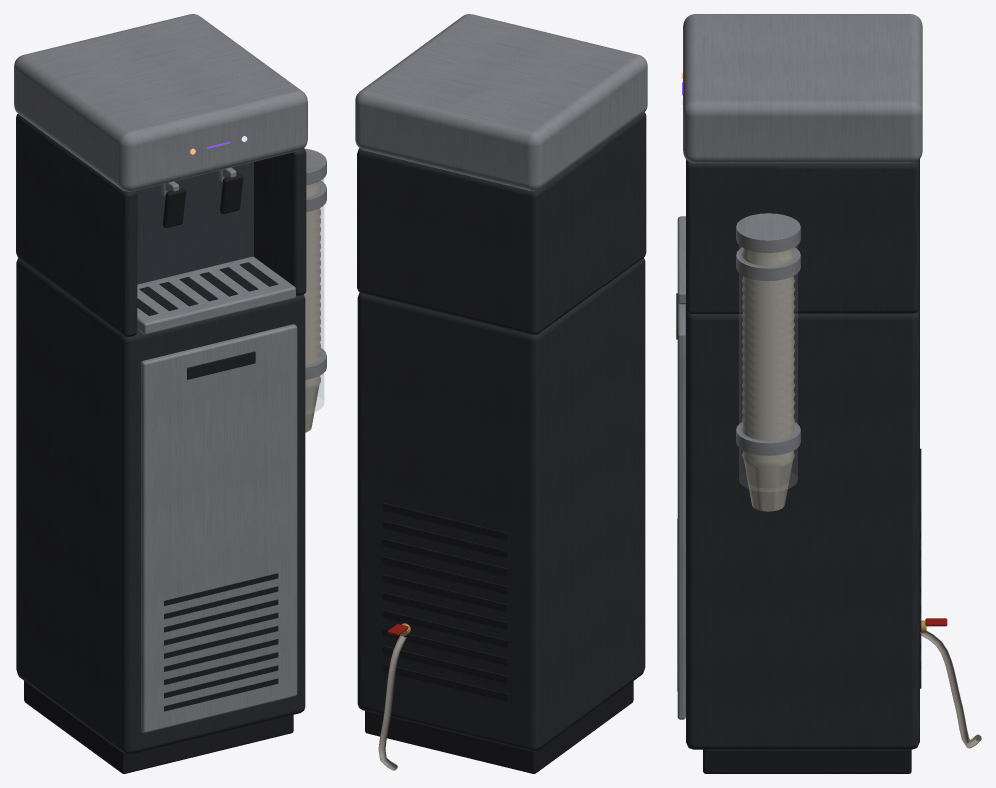
The model's file is water_dispenser.glb.
3 renders of one model, left to right at view 1: azimuth 30°, elevation 25°; view 2: azimuth 150°, elevation 25°; view 3: azimuth 270°, elevation 25°, orthographic. The views are drawn at different scales.
Visible parts, largest first — view 1: body_graphite_0, front_panel_steel_brushed_0, body_steel_brushed_1, body_alloy_dark_2, front_panel_plastic_dark_1, tray_steel_brushed_0, body_plastic_dark_4, cup_tube_glass_clear_0, cups_plastic_ivory_0, tray_plastic_dark_1, clamps_steel_brushed_0, tap_r_plastic_dark_0 (+1 smaller); view 2: body_graphite_0, body_steel_brushed_1, body_plastic_dark_4, body_plastic_white_7; view 3: body_graphite_0, body_steel_brushed_1, cup_tube_glass_clear_0, cups_plastic_ivory_0, body_plastic_dark_4, clamps_steel_brushed_0, front_panel_steel_brushed_0, body_plastic_white_7, tray_steel_brushed_0.
Boxes of the visible parts, left/top/right/bottom form: body_graphite_0: left=16, top=114, right=306, bottom=754; front_panel_steel_brushed_0: left=141, top=324, right=297, bottom=732; body_steel_brushed_1: left=14, top=14, right=307, bottom=195; body_alloy_dark_2: left=136, top=162, right=253, bottom=284; front_panel_plastic_dark_1: left=164, top=351, right=278, bottom=711; tray_steel_brushed_0: left=137, top=256, right=295, bottom=334; body_plastic_dark_4: left=24, top=681, right=293, bottom=773; cup_tube_glass_clear_0: left=304, top=179, right=323, bottom=413; cups_plastic_ivory_0: left=304, top=181, right=320, bottom=432; tray_plastic_dark_1: left=137, top=262, right=278, bottom=315; clamps_steel_brushed_0: left=305, top=148, right=326, bottom=379; tap_r_plastic_dark_0: left=162, top=188, right=185, bottom=227; body_graphite_0: left=357, top=112, right=646, bottom=751; body_steel_brushed_1: left=355, top=14, right=647, bottom=191; body_plastic_dark_4: left=365, top=502, right=633, bottom=773; body_plastic_white_7: left=378, top=635, right=406, bottom=770; body_graphite_0: left=686, top=159, right=919, bottom=749; body_steel_brushed_1: left=683, top=14, right=922, bottom=163; cup_tube_glass_clear_0: left=739, top=245, right=797, bottom=491; cups_plastic_ivory_0: left=742, top=248, right=794, bottom=511; body_plastic_dark_4: left=703, top=448, right=921, bottom=773; clamps_steel_brushed_0: left=736, top=213, right=800, bottom=455; front_panel_steel_brushed_0: left=677, top=302, right=685, bottom=719; body_plastic_white_7: left=921, top=631, right=981, bottom=748; tray_steel_brushed_0: left=677, top=216, right=685, bottom=304.
Size of what is drawn, in the model's own units: 0.418 by 1.08 by 0.4438.
13 materials, 8 textured.
